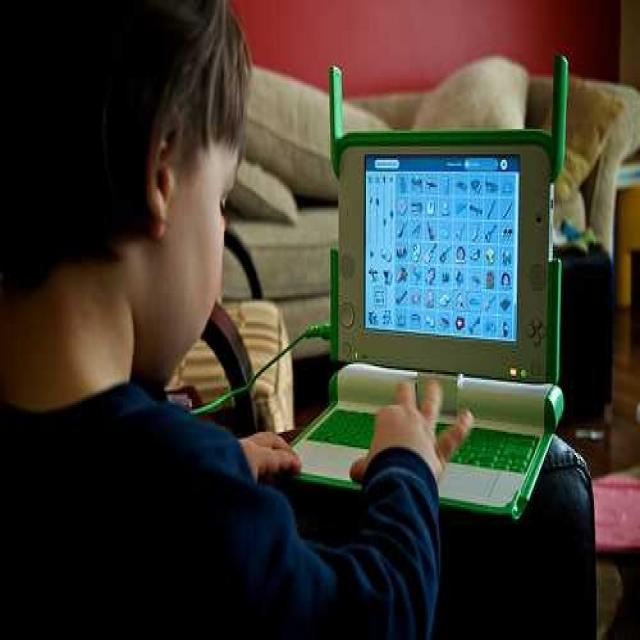laptop: (315, 106, 564, 525)
